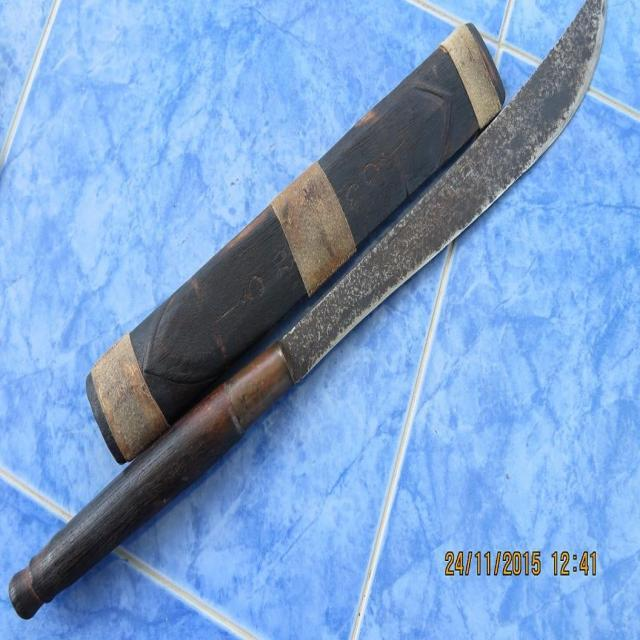short sword: (2, 0, 640, 618)
